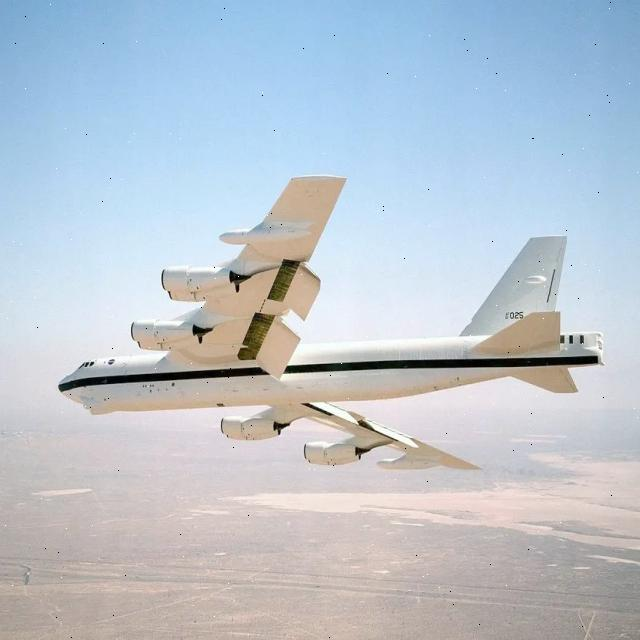B52: (33, 150, 628, 530)
